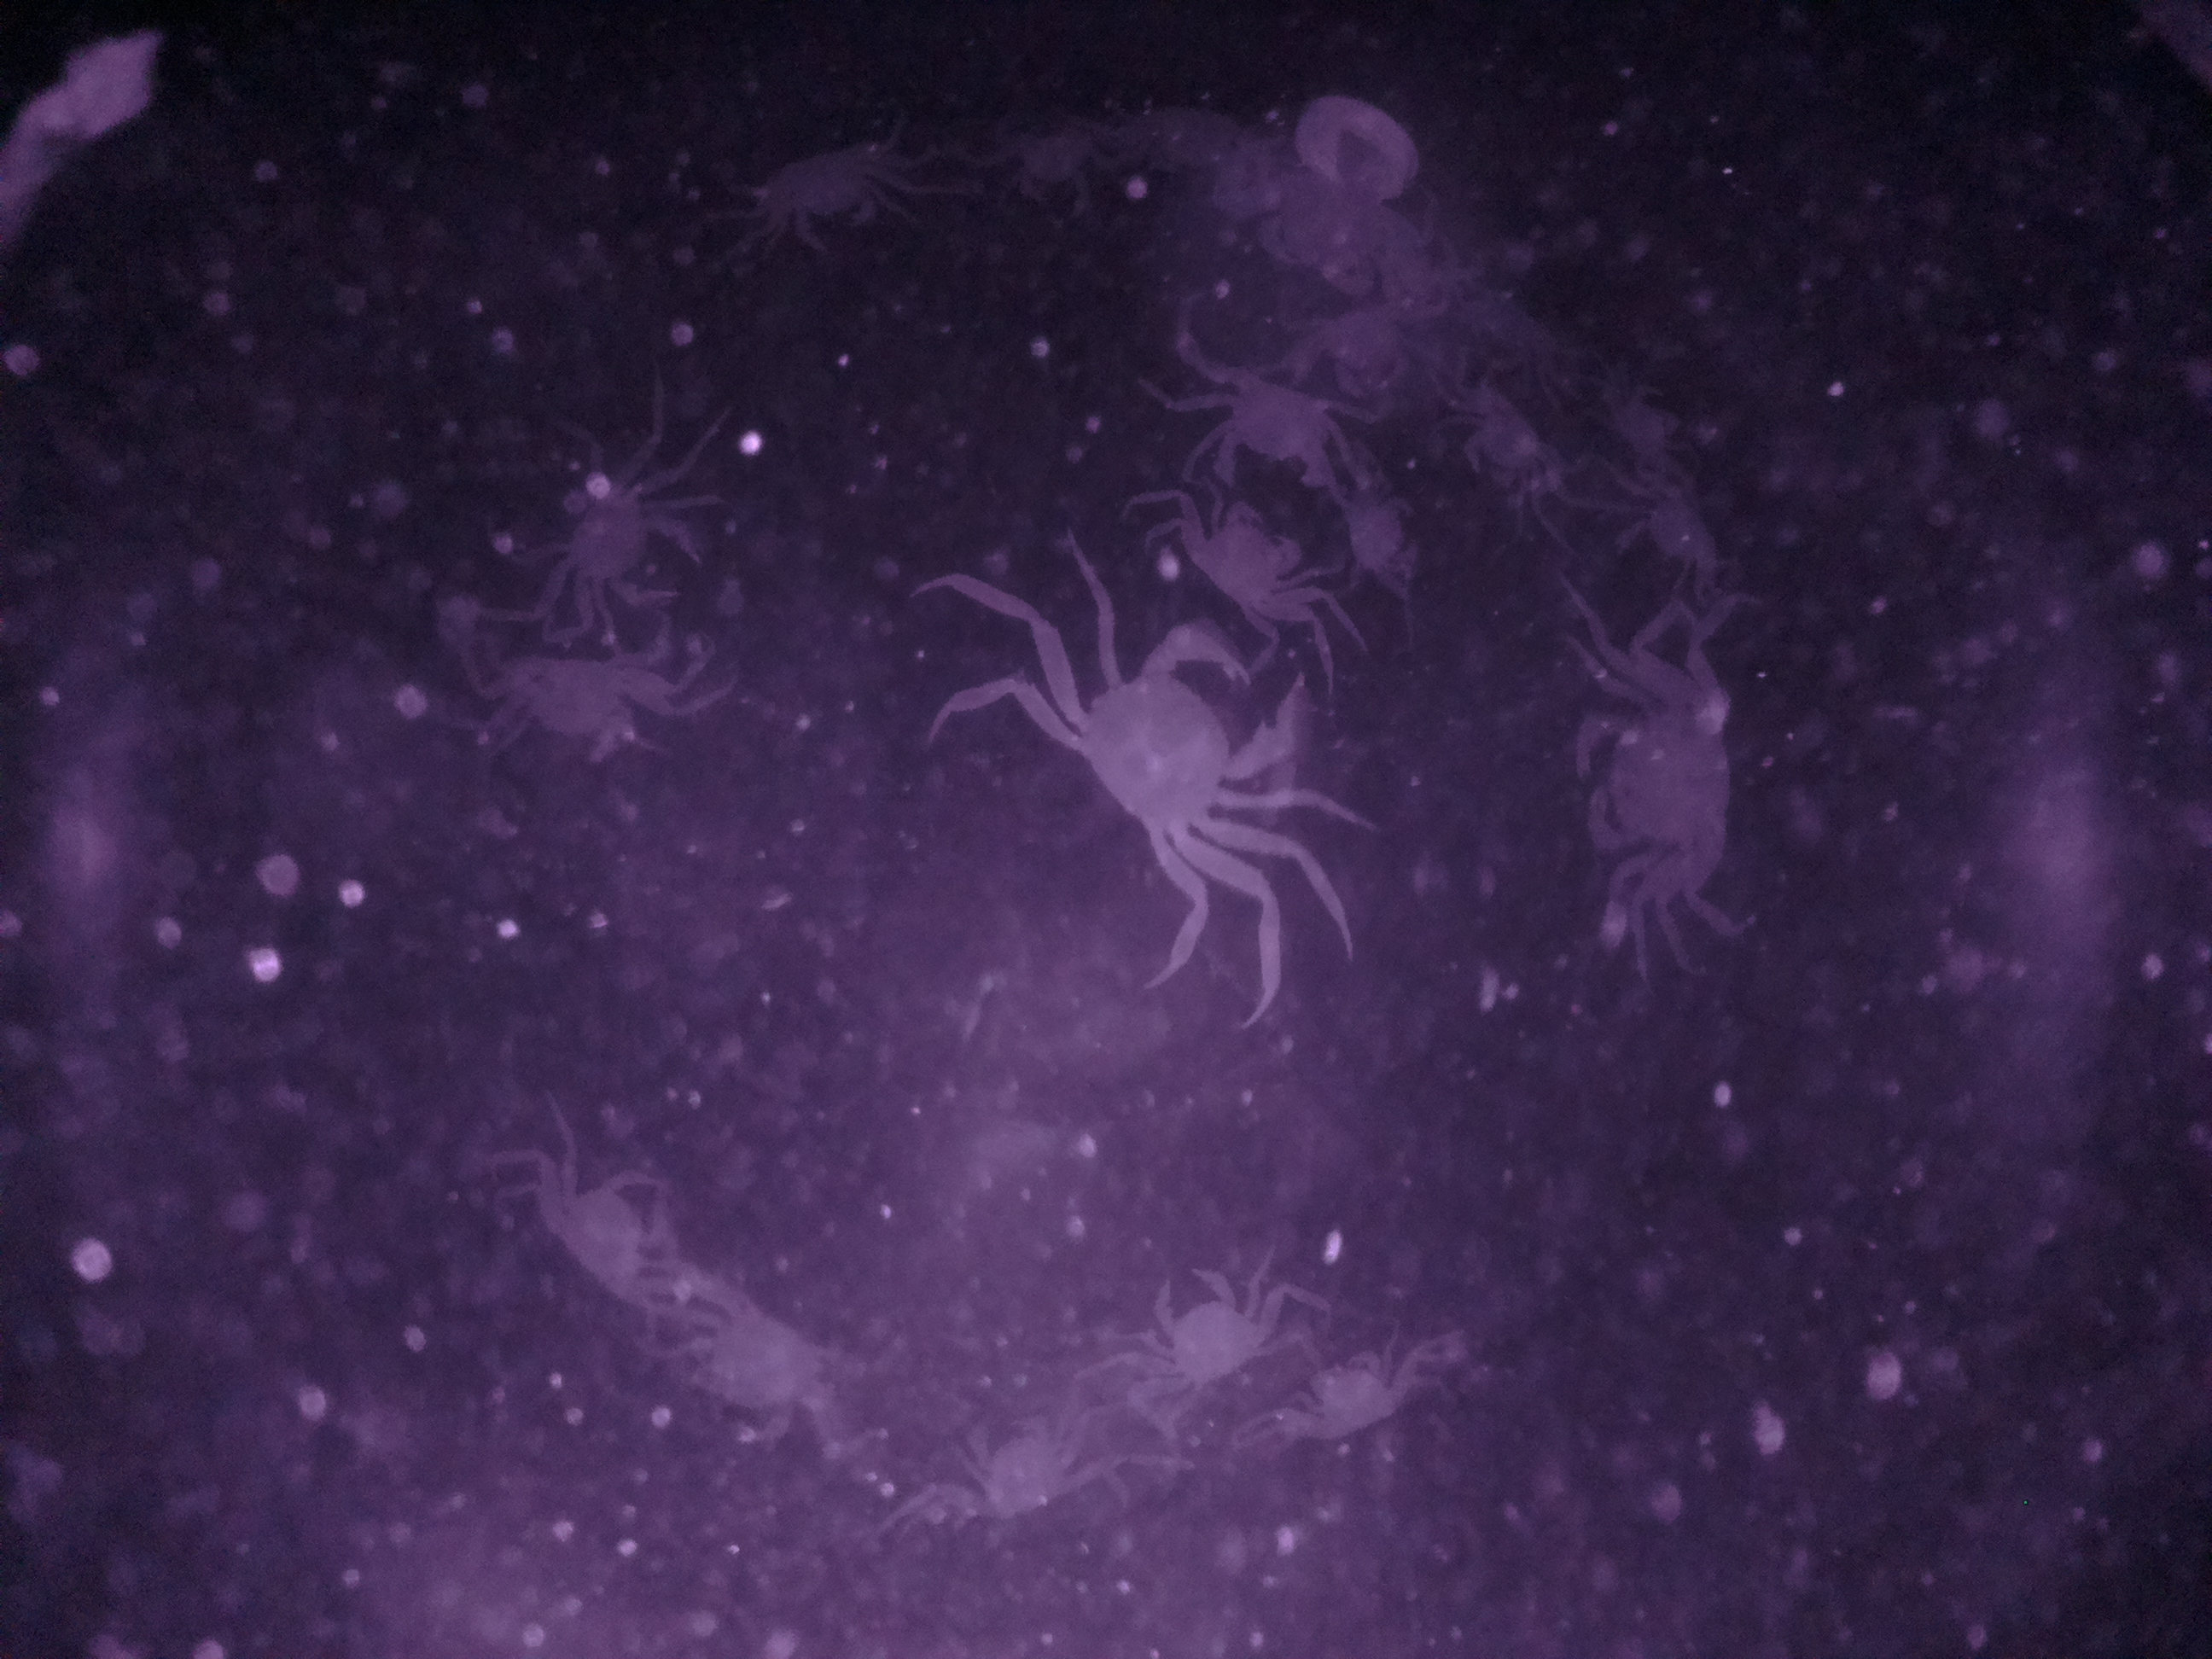Crab: (1026, 629, 1310, 892), (1562, 659, 1749, 903), (455, 633, 686, 786), (535, 467, 723, 638), (1108, 1258, 1291, 1406), (1193, 347, 1362, 504), (737, 127, 925, 254), (1169, 488, 1327, 629), (1275, 1342, 1439, 1441)
